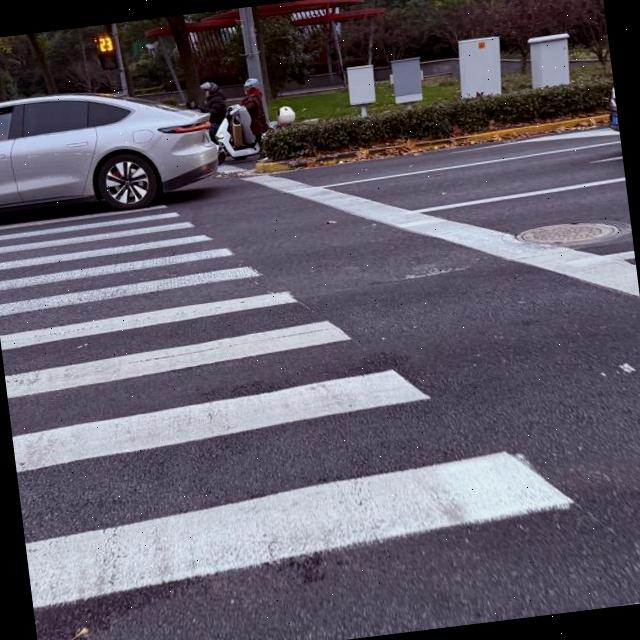curb: (255, 114, 607, 173)
